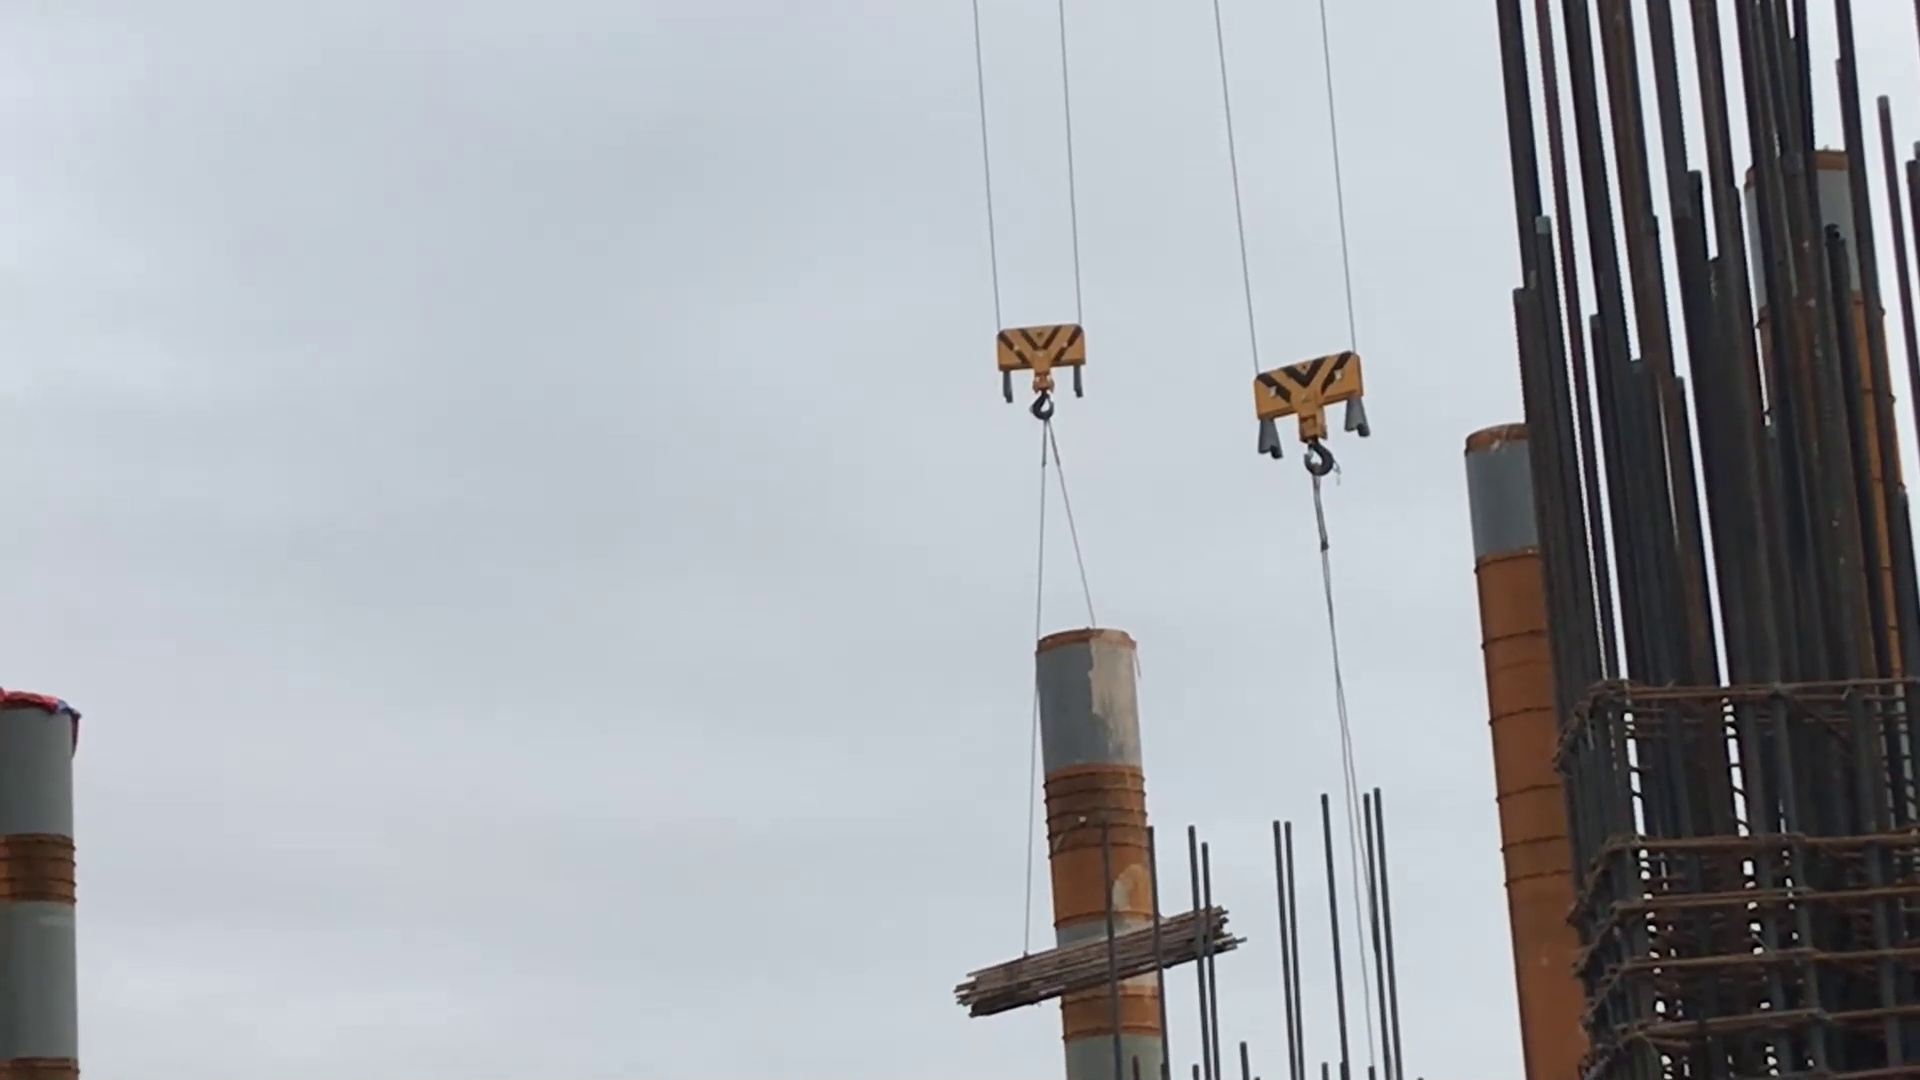hook: (1253, 348, 1371, 483), (992, 320, 1088, 425)
